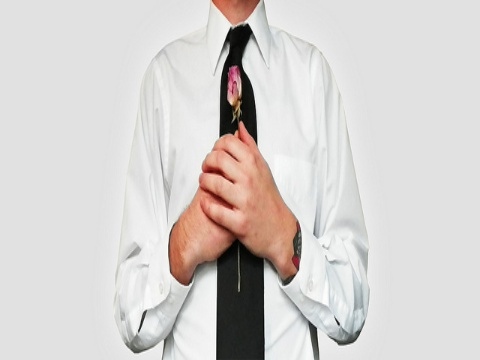hand: (199, 120, 279, 258)
